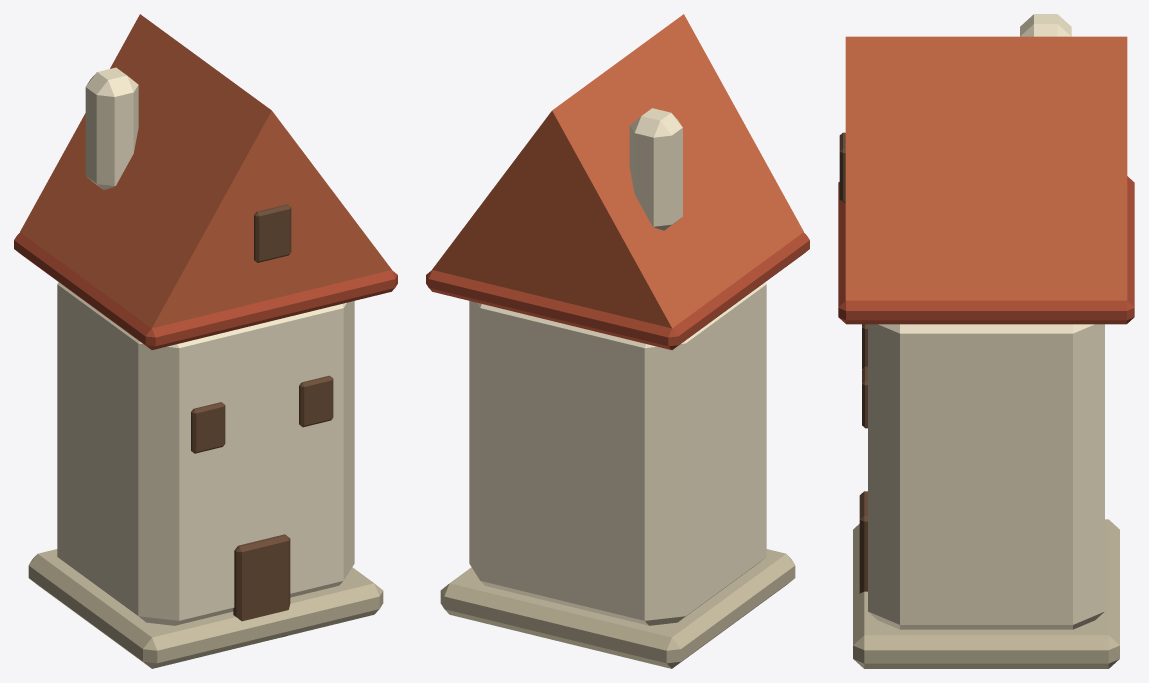
Rendered from ns-house-3a.glb.
3 views of the same model, side by side, from view 1: azimuth 30°, elevation 25°; view 2: azimuth 150°, elevation 25°; view 3: azimuth 270°, elevation 25° (orthographic). The views are drawn at different scales.
Visible parts, largest first — view 1: Cube; view 2: Cube; view 3: Cube.
Boxes of the visible parts, x1,y1,x2,y2 form: Cube: [14, 14, 397, 668]; Cube: [426, 14, 809, 668]; Cube: [838, 14, 1134, 668].
Bounding box in the file's own units: 0.42 × 0.855 × 0.4.
